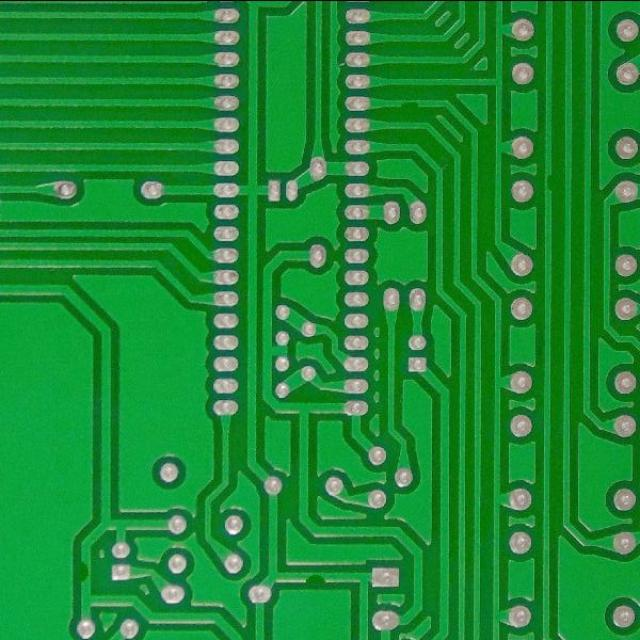MouseBite: (300, 568, 330, 586), (77, 556, 95, 586), (397, 96, 423, 110), (543, 171, 555, 196)
